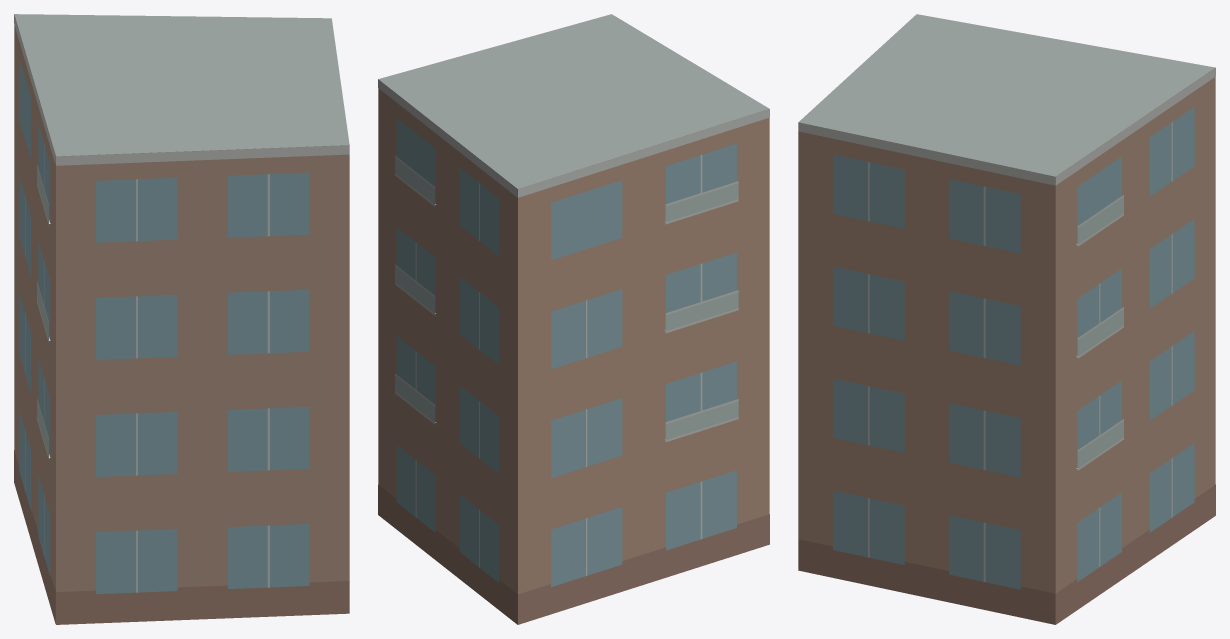
File: survey-upis-32726164.glb
3 renders of one model, left to right at view 1: azimuth 30°, elevation 25°; view 2: azimuth 150°, elevation 25°; view 3: azimuth 270°, elevation 25°, orthographic. The views are drawn at different scales.
Parts seen in each view (by area): view 1: survey-upis-32726164.tmp; view 2: survey-upis-32726164.tmp; view 3: survey-upis-32726164.tmp.
Part boxes in pixels (bbox=[...]): survey-upis-32726164.tmp: bbox=[14, 14, 349, 624]; survey-upis-32726164.tmp: bbox=[378, 14, 769, 624]; survey-upis-32726164.tmp: bbox=[798, 14, 1215, 624].
Size of the model in its own units: 9.43 by 12.1 by 10.22.
